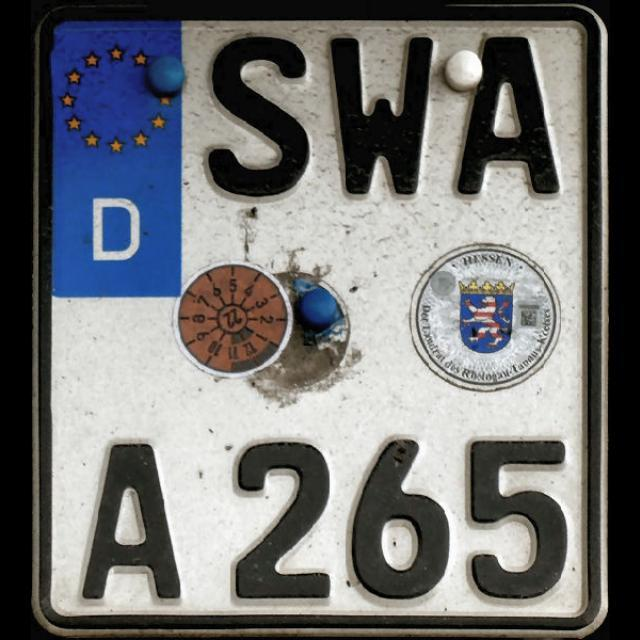license-plates: (33, 4, 608, 640)
